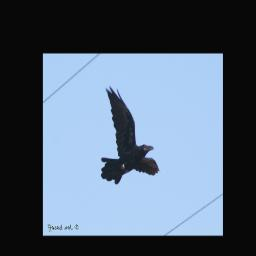Crow: (100, 85, 160, 184)
